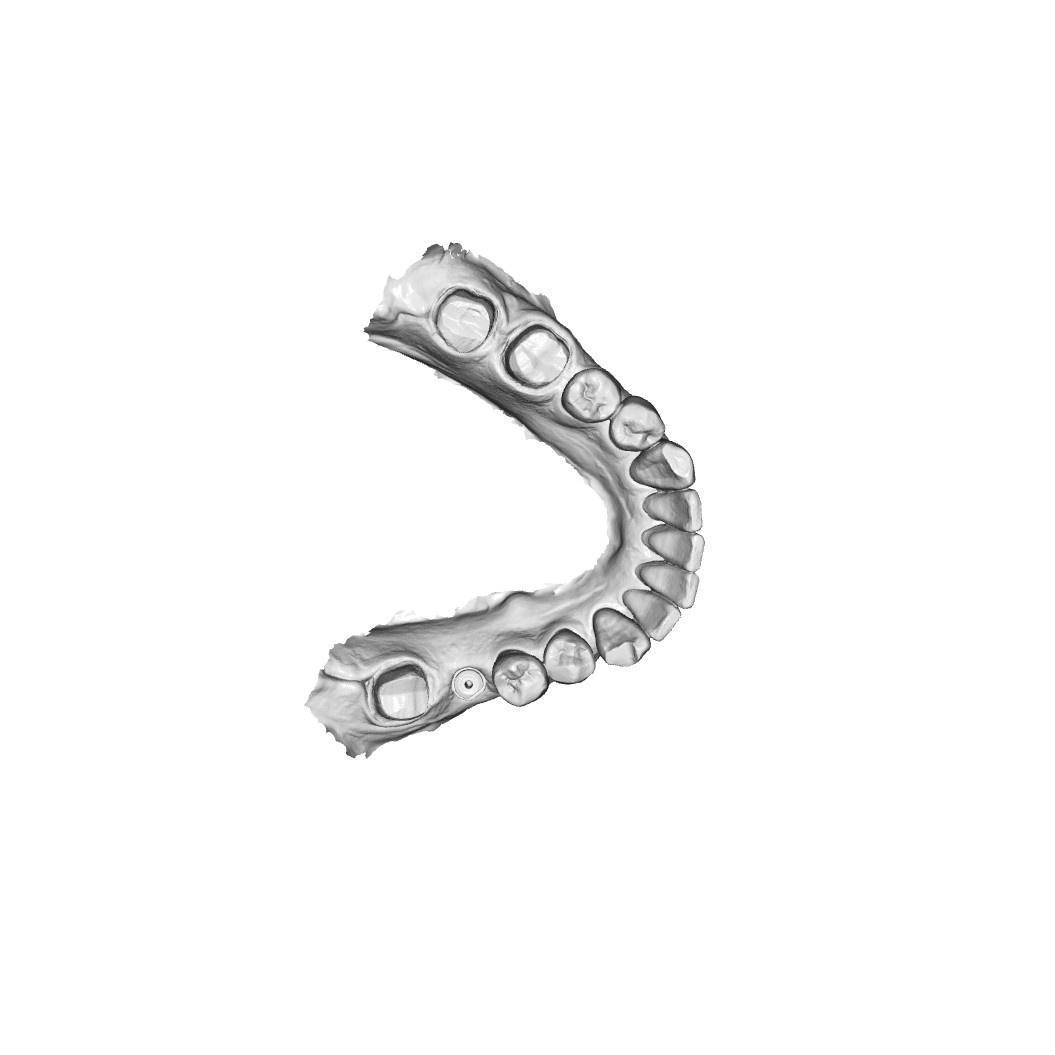canine: (590, 604, 651, 671), (627, 440, 696, 497)
crown: (501, 321, 572, 391), (431, 286, 499, 355), (371, 660, 433, 726)
implant: (451, 665, 487, 703)
incisor: (641, 525, 705, 577), (621, 587, 682, 641), (631, 563, 699, 611), (638, 489, 704, 533)
premolar: (605, 394, 668, 453), (561, 366, 622, 424), (491, 649, 549, 710), (541, 626, 596, 686)
